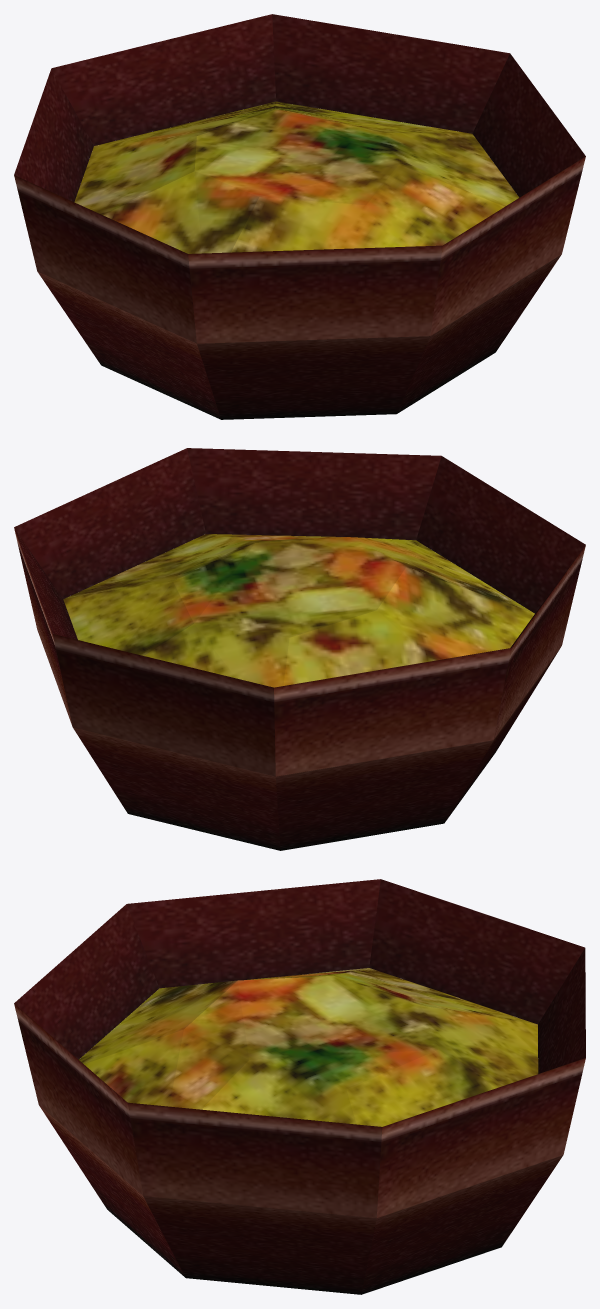
Rendered from ITFO_STEW_03.glb.
3 renders of one model, top to bottom at view 1: azimuth 30°, elevation 25°; view 2: azimuth 150°, elevation 25°; view 3: azimuth 270°, elevation 25°, orthographic. The views are drawn at different scales.
Visible parts, largest first — view 1: ITFO_STEW_03; view 2: ITFO_STEW_03; view 3: ITFO_STEW_03.
Part boxes in pixels (x1,y1,x2,y2): ITFO_STEW_03: (14, 14, 585, 419); ITFO_STEW_03: (14, 448, 585, 850); ITFO_STEW_03: (14, 879, 585, 1294).
Size of the model in its own units: 0.3219 by 0.131 by 0.314.
2 materials, 2 textured.
